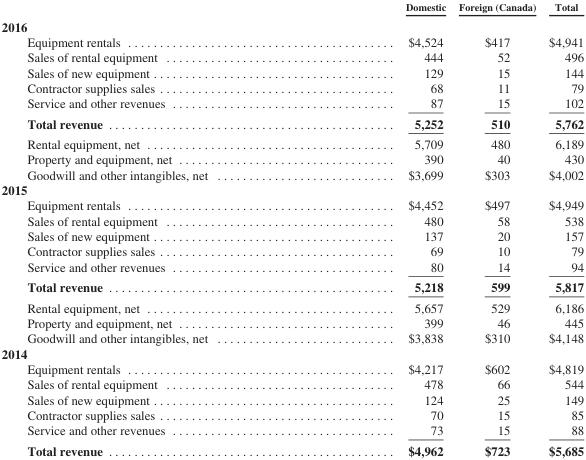table: (0, 0, 583, 457)
table column: (0, 0, 306, 457), (306, 0, 451, 457), (451, 0, 541, 457), (541, 0, 583, 457)
table column header: (0, 0, 583, 15)
table projected row header: (0, 15, 583, 33), (0, 181, 583, 197), (0, 345, 583, 360)
table row: (0, 112, 583, 133), (0, 276, 583, 296), (0, 15, 583, 33), (0, 133, 583, 151), (0, 258, 583, 276), (0, 296, 583, 314), (0, 439, 583, 457), (0, 95, 583, 112), (0, 422, 583, 439), (0, 33, 583, 49), (0, 79, 583, 95), (0, 181, 583, 197), (0, 212, 583, 228), (0, 314, 583, 330), (0, 360, 583, 376), (0, 406, 583, 422), (0, 0, 583, 15), (0, 49, 583, 64), (0, 64, 583, 79), (0, 151, 583, 166), (0, 166, 583, 181), (0, 197, 583, 212), (0, 228, 583, 243), (0, 243, 583, 258), (0, 330, 583, 345), (0, 345, 583, 360), (0, 376, 583, 391), (0, 391, 583, 406)
